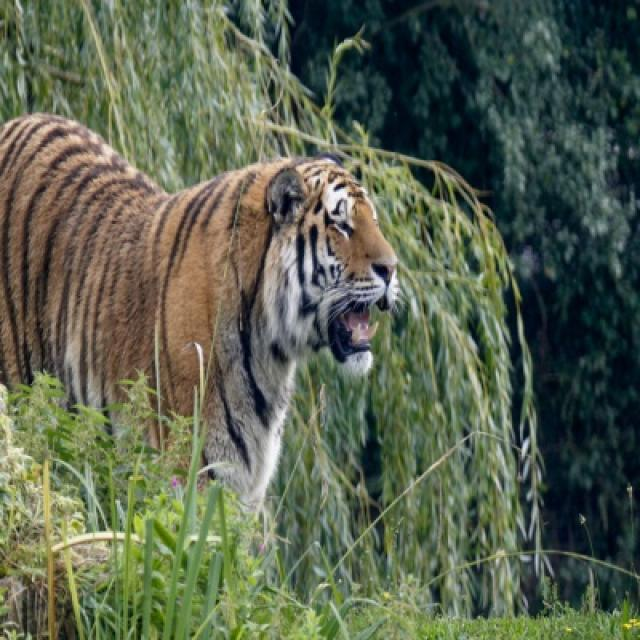Tiger: (0, 120, 401, 496)
